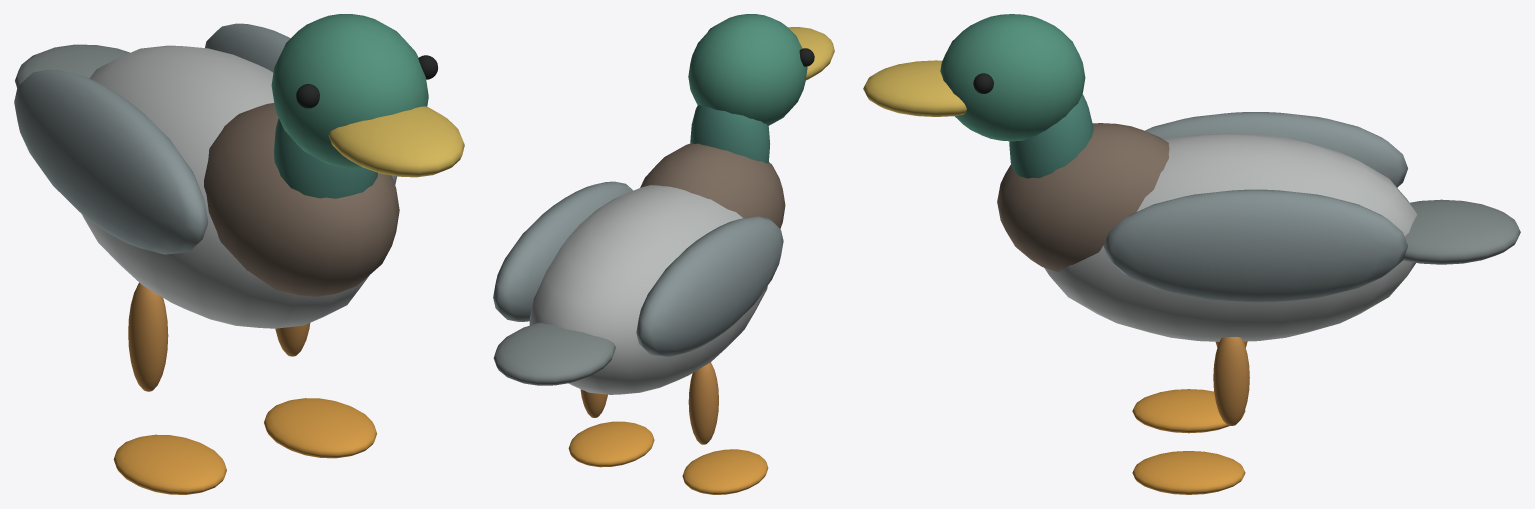
Rendered from synthetic_bird_folded_source.glb.
The picture shows the model from 3 angles, left to right: view 1: azimuth 30°, elevation 25°; view 2: azimuth 150°, elevation 25°; view 3: azimuth 270°, elevation 25°; orthographic projection. The views are drawn at different scales.
Parts seen in each view (by area): view 1: Surface; view 2: Surface; view 3: Surface.
Boxes of the visible parts, bbox=[...] form: Surface: bbox=[14, 14, 464, 494]; Surface: bbox=[493, 14, 834, 494]; Surface: bbox=[863, 14, 1520, 494].
Size of the model in its own units: 0.418 by 0.786 by 1.08.
